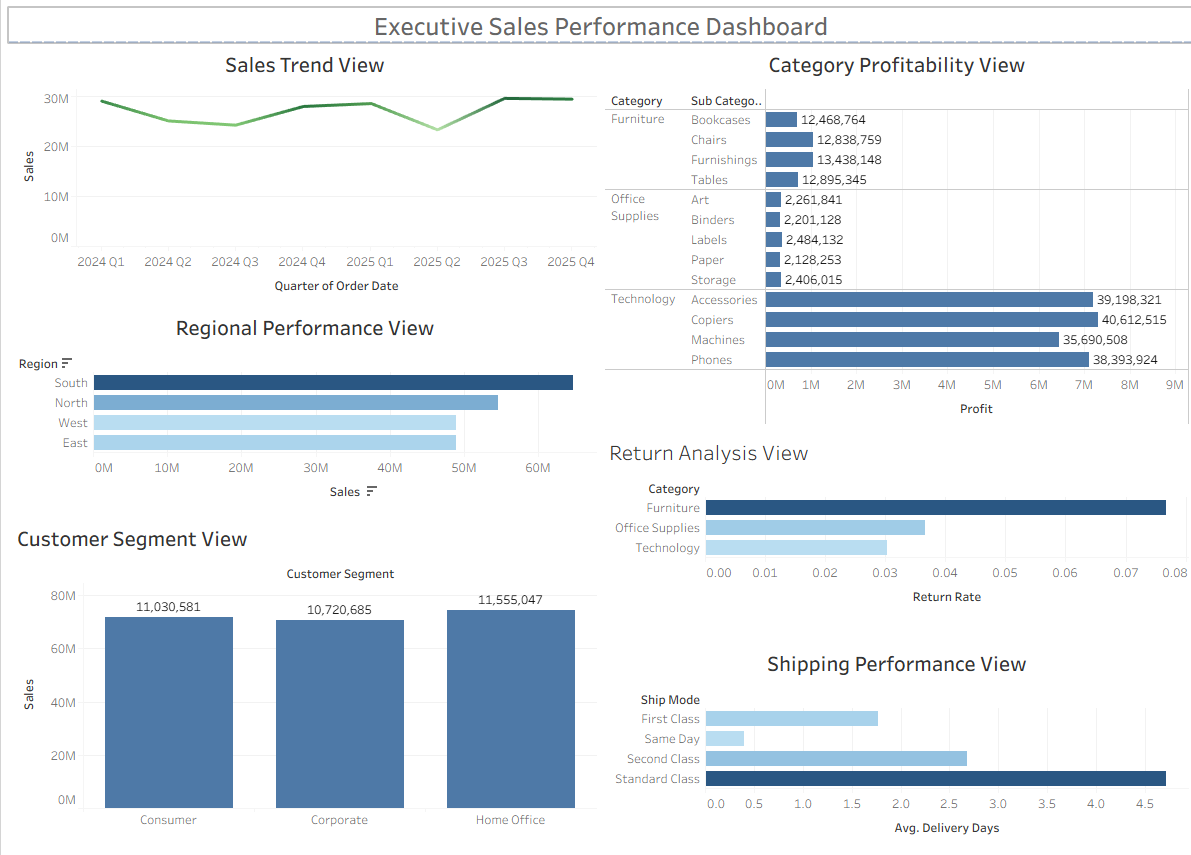

What the dashboard file says about the page in this screenshot:
{"tool":"tableau","page":{"name":"Executive Sales Performance Dashboard","canvas":[1000,1000],"units":"permille","ordinal":0},"visuals":[{"type":"text","box":[6.7,9.3,986.7,39.5]},{"type":"worksheet","title":"Sales Trend View","mark":"Line","rows":["sales"],"cols":["order_date"],"box":[6.7,48.8,493.3,305.8]},{"type":"worksheet","title":"Category Profitability View","mark":"Automatic","rows":["category","sub_category"],"cols":["profit"],"box":[500,48.8,493.3,451.2]},{"type":"worksheet","title":"Regional Performance View","mark":"Automatic","rows":["region"],"cols":["sales"],"box":[6.7,354.7,493.3,245.3]},{"type":"worksheet","title":"Return Analysis View","mark":"Automatic","rows":["category"],"cols":["Calculation_1371933188968451"],"box":[500,500,493.3,245.3]},{"type":"worksheet","title":"Customer Segment View","mark":"Automatic","rows":["sales"],"cols":["customer_segment"],"box":[6.7,600,493.3,390.7]},{"type":"worksheet","title":"Shipping Performance View","mark":"Automatic","rows":["ship_mode"],"cols":["delivery_days"],"box":[500,745.4,493.3,245.3]}]}

Visuals, with their boxes on the dashboard's canvas, which has no fixed pixel size, in thousandths of its width and height (x1, y1, x2, y2). These are canvas units, not pixel positions in the 1191x855 screenshot, which may show the page scaled, cropped or inside an application window:
text: [7, 9, 993, 49]
"Sales Trend View" worksheet (Line marks): [7, 49, 500, 355]
"Category Profitability View" worksheet: [500, 49, 993, 500]
"Regional Performance View" worksheet: [7, 355, 500, 600]
"Return Analysis View" worksheet: [500, 500, 993, 745]
"Customer Segment View" worksheet: [7, 600, 500, 991]
"Shipping Performance View" worksheet: [500, 745, 993, 991]
